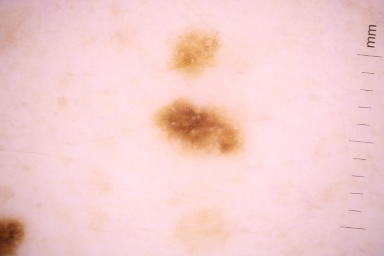nevus: (158, 99, 243, 154), (169, 30, 222, 78), (1, 222, 24, 254)
